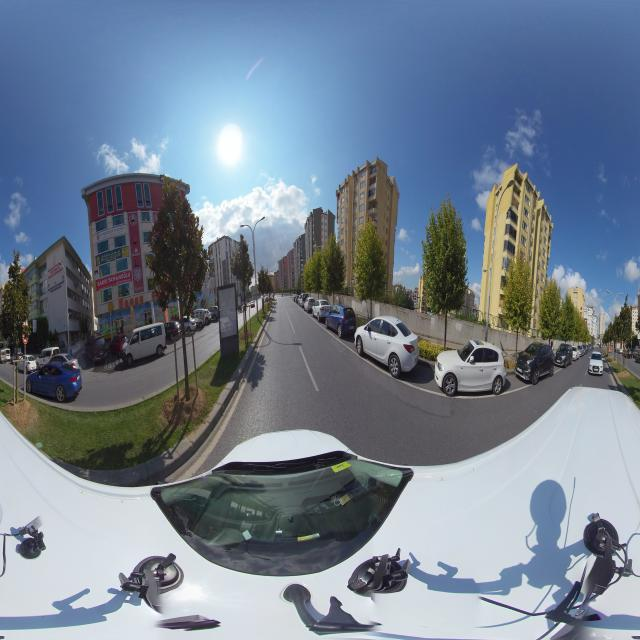SignStore: (95, 270, 132, 292), (96, 246, 129, 266), (95, 225, 126, 243)
